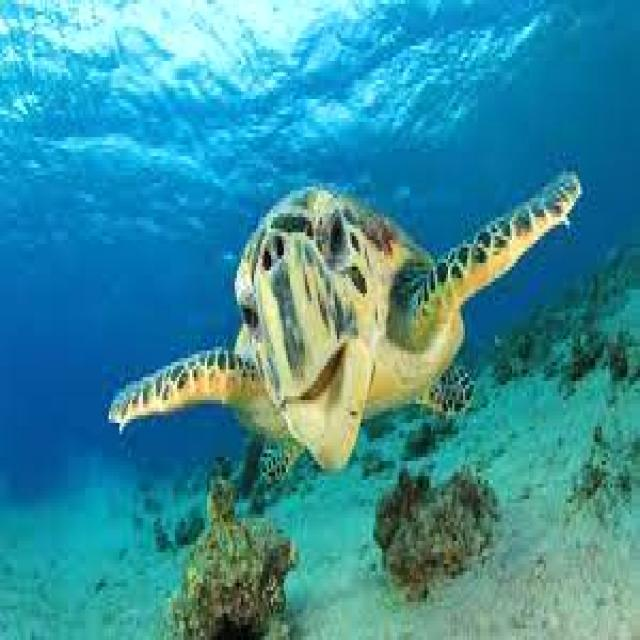Sea turtle: (107, 170, 584, 480)
